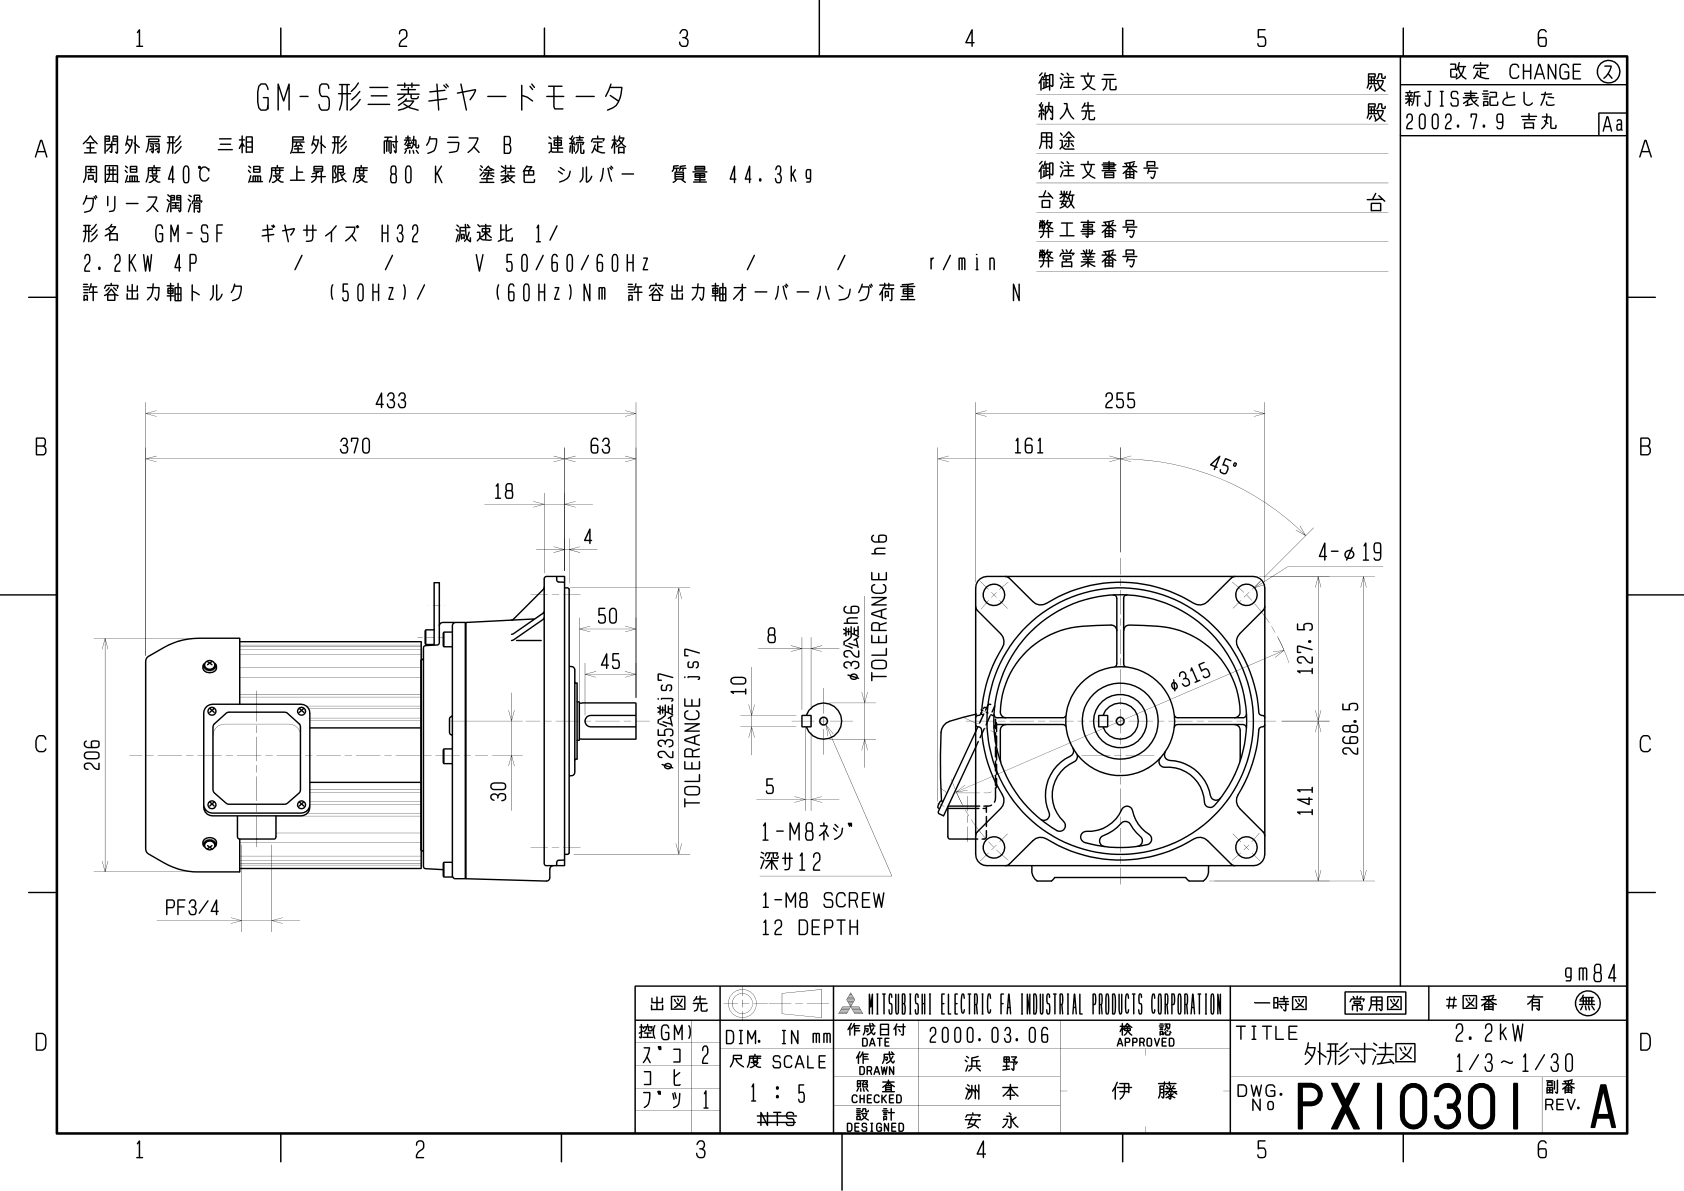GM_S_屋外＿三相_フランジ: (73, 360, 1392, 973)
